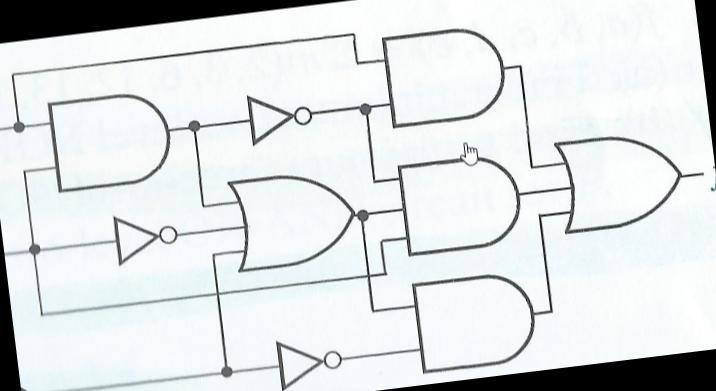and: (374, 13, 514, 135), (390, 144, 530, 264), (40, 82, 178, 198), (404, 264, 541, 380)
not: (235, 81, 318, 150), (103, 202, 184, 268), (272, 326, 350, 391)
or: (544, 117, 692, 242), (222, 159, 360, 275)
